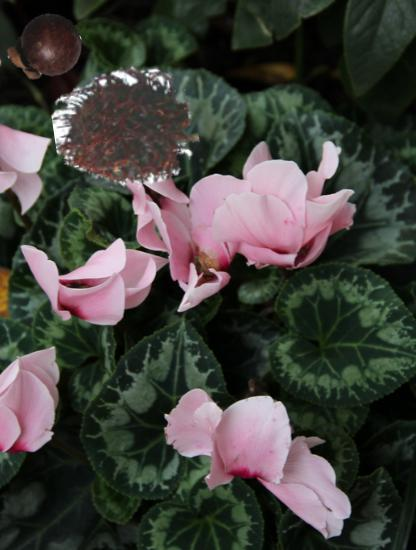Mangostan: (7, 10, 83, 86)
Rambutan: (54, 57, 197, 200)
